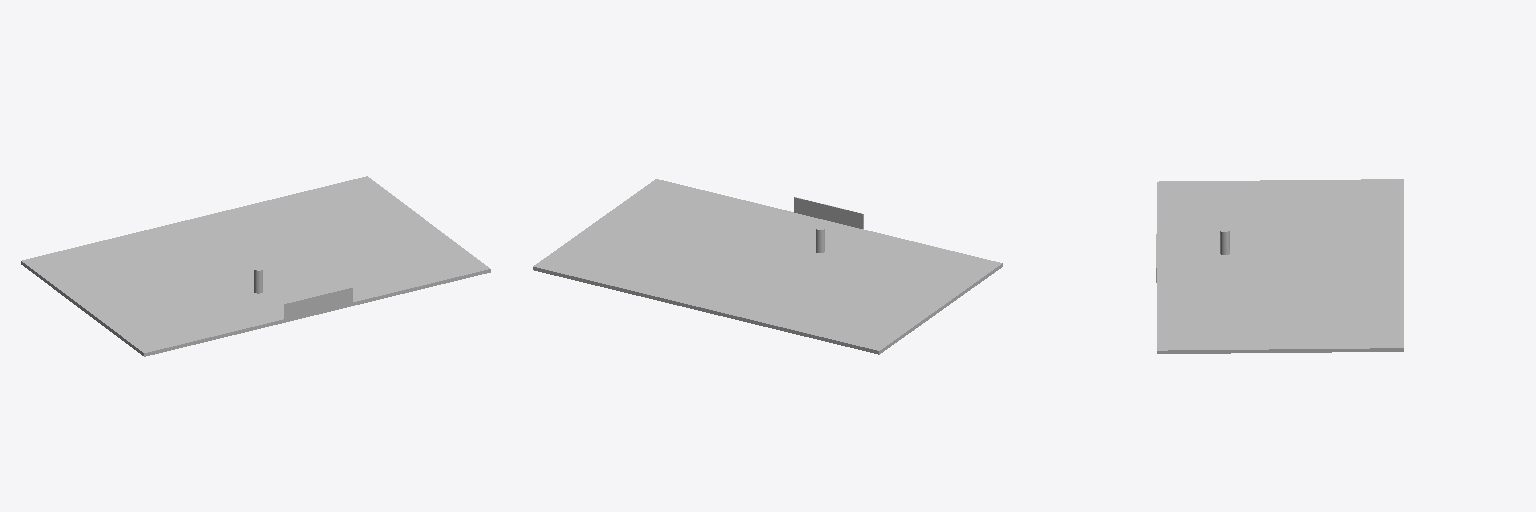
Rendered from floor05_02.obj.
3 views of the same model, side by side, from view 1: azimuth 30°, elevation 25°; view 2: azimuth 150°, elevation 25°; view 3: azimuth 270°, elevation 25° (orthographic).
Parts seen in each view (by area): view 1: Cube, Cube.001; view 2: Cube, Cube.001; view 3: Cube.
Boxes of the visible parts, x1=… form: Cube: x1=21, y1=176, x2=490, y2=356; Cube.001: x1=284, y1=287, x2=352, y2=320; Cube: x1=533, y1=179, x2=1002, y2=354; Cube.001: x1=794, y1=197, x2=863, y2=228; Cube: x1=1157, y1=179, x2=1403, y2=353.
Size of the model in its own units: 200 by 15.09 by 123.